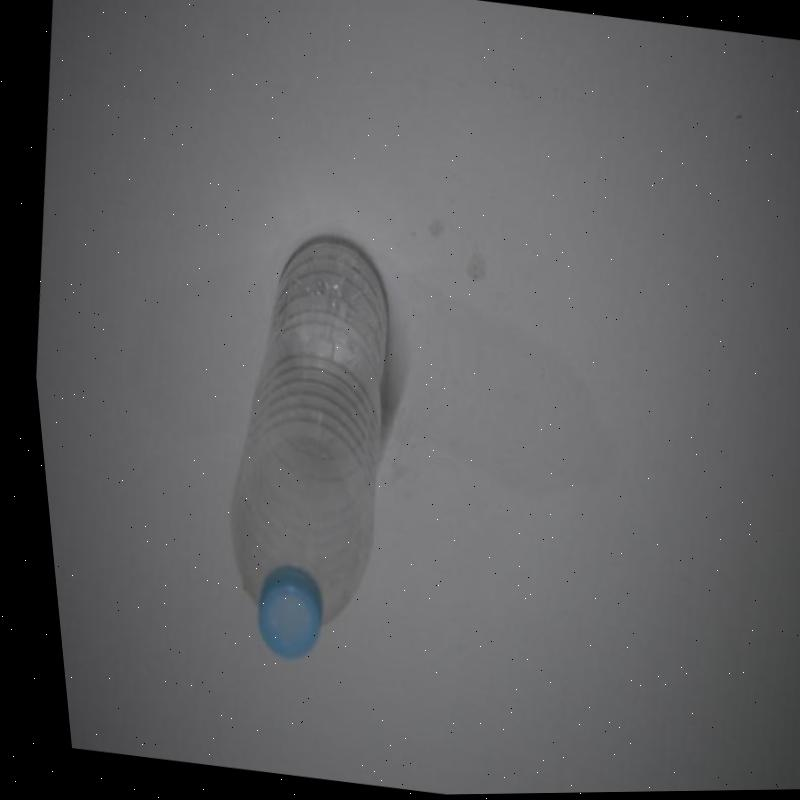botella: (176, 219, 420, 670)
